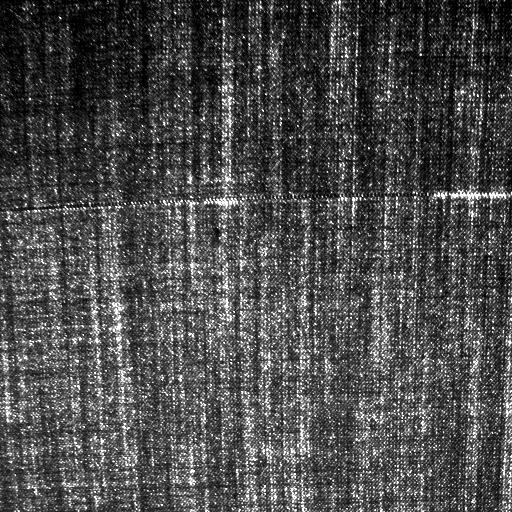fabric_broken_pick: (20, 188, 506, 208)
